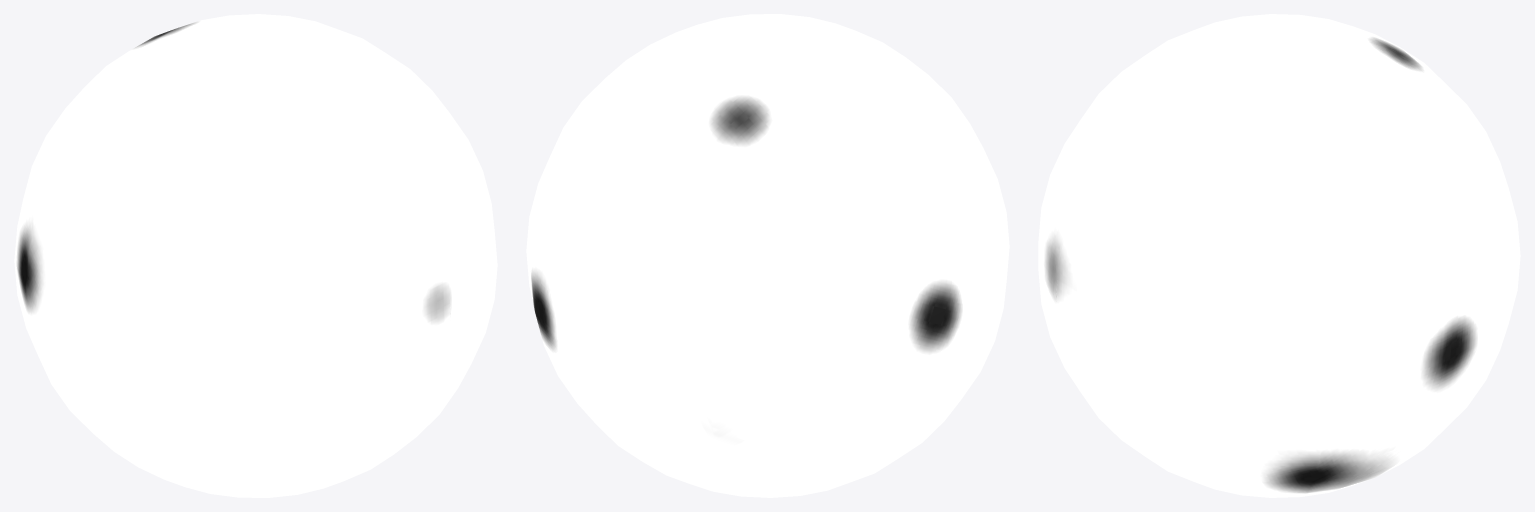
The model's file is moon.gltf.
3 renders of one model, left to right at view 1: azimuth 30°, elevation 25°; view 2: azimuth 150°, elevation 25°; view 3: azimuth 270°, elevation 25°, orthographic.
Parts seen in each view (by area): view 1: Sphere; view 2: Sphere; view 3: Sphere.
Part boxes in pixels (x1,y1,x2,y2): Sphere: [14, 14, 497, 497]; Sphere: [526, 14, 1009, 497]; Sphere: [1038, 14, 1520, 497].
Size of the model in its own units: 2 by 2 by 1.99.
Materials: 1 (1 with a texture image).
